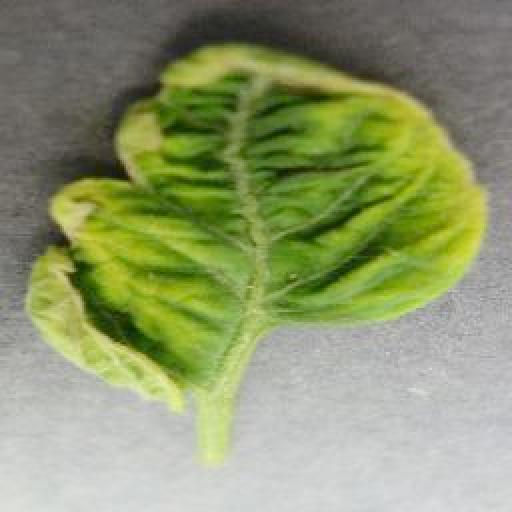disease_tomato: (24, 42, 492, 414)
